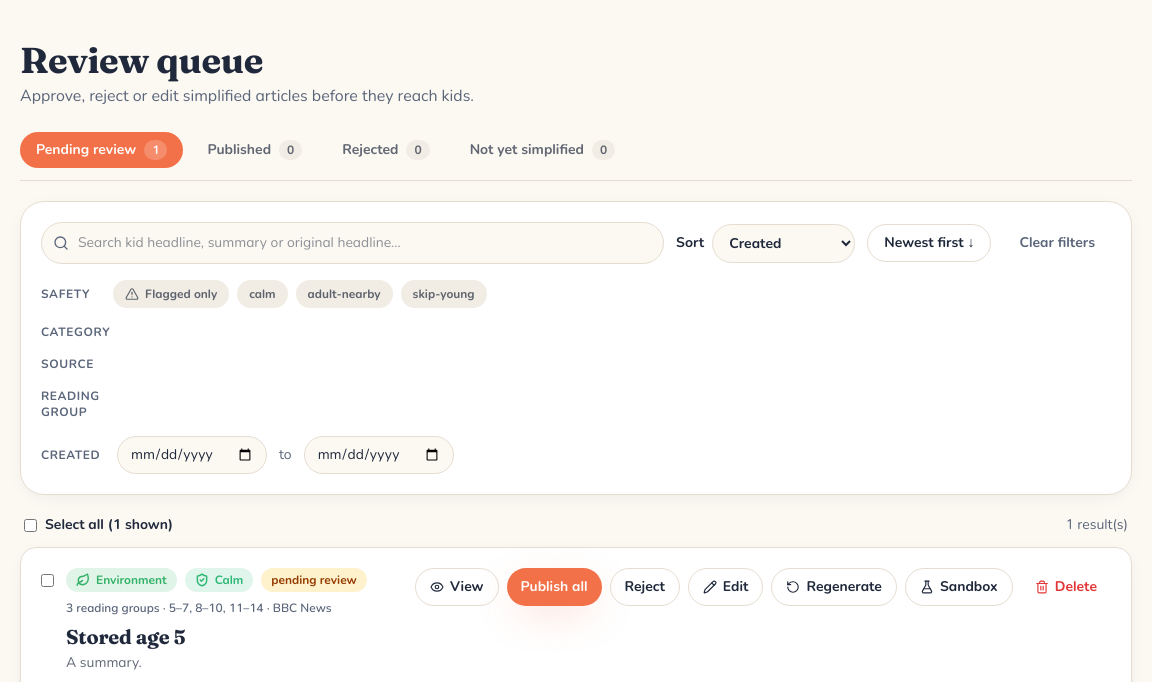
Test: starting a story-scoped regeneration › reports progress on the row while the job runs
Expected: the button "Stored age 5" is shown, [66,624,186,649]
Click the button "Regenerate" at (834, 587), box [772,568,897,606]
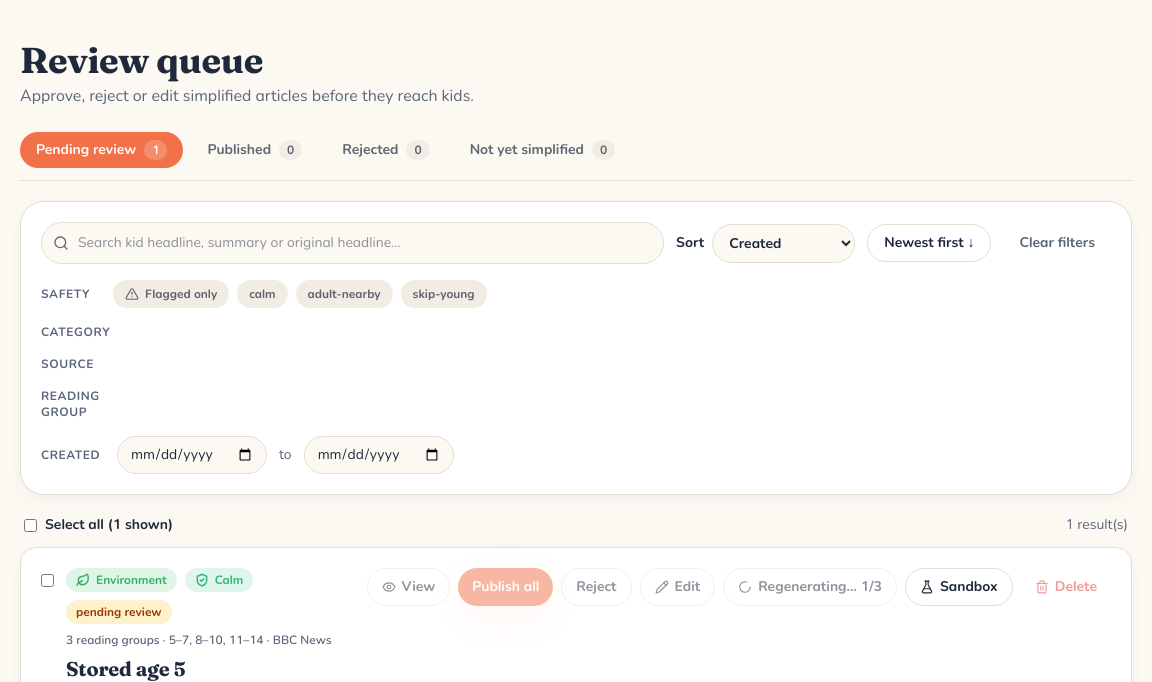
Expected: the button "Regenerating… 1/3" is disabled, [723,568,897,606]
Expected: the button "Publish all" is disabled, [458,568,553,606]
